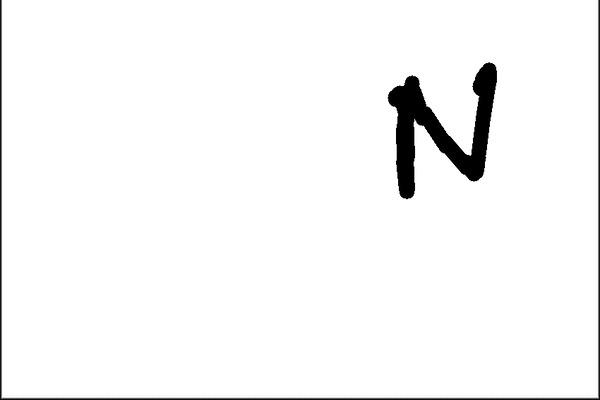N: (382, 56, 503, 204)
